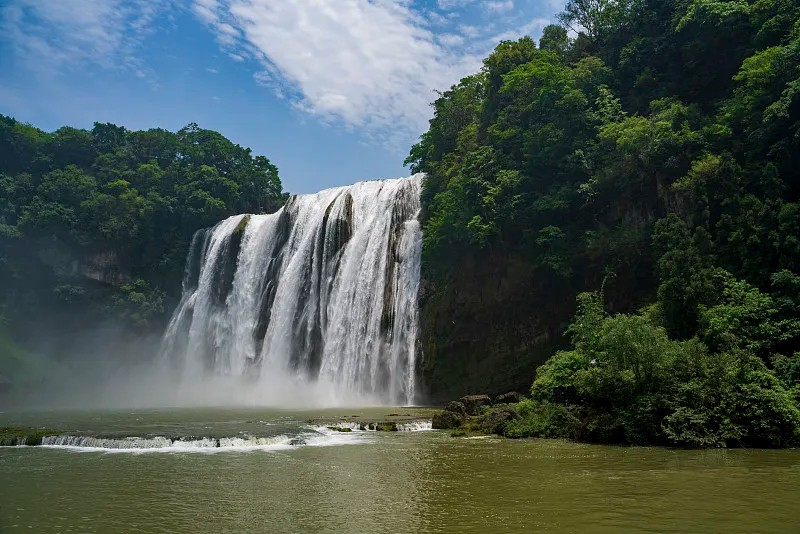Huangguoshu: (154, 174, 420, 406)
